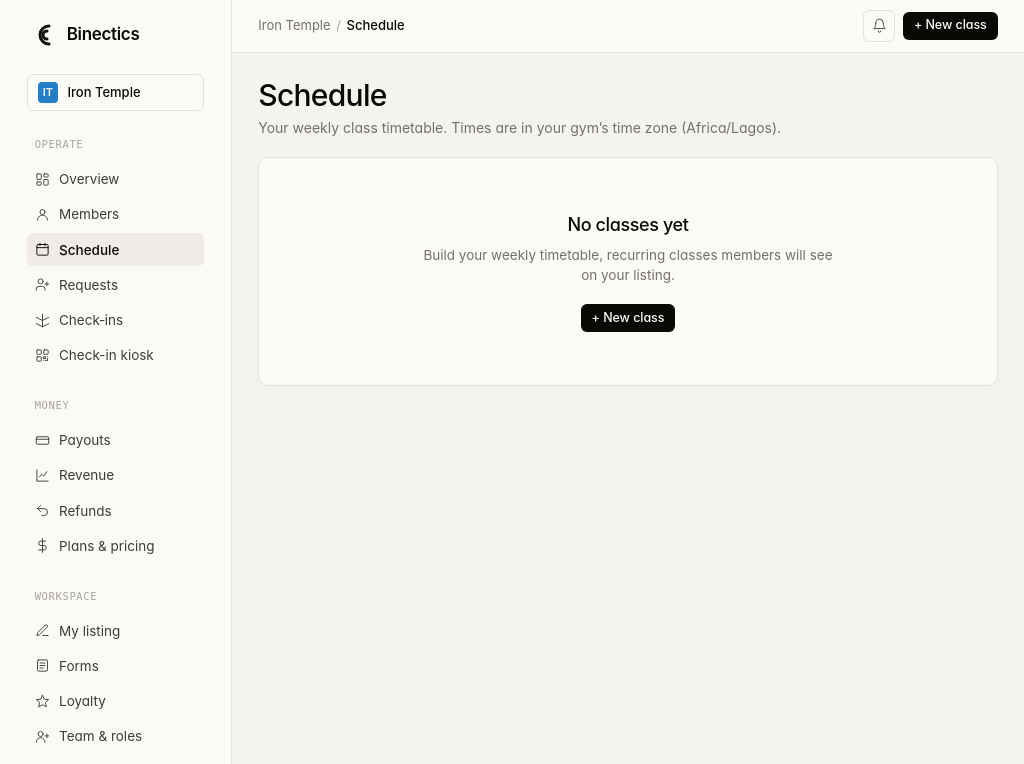
Test: Schedule on a plan without classes › opens the form as before when the plan has classes
Step 1. Click the 1st button "+ New class" → [950, 26], box [903,12,998,40]
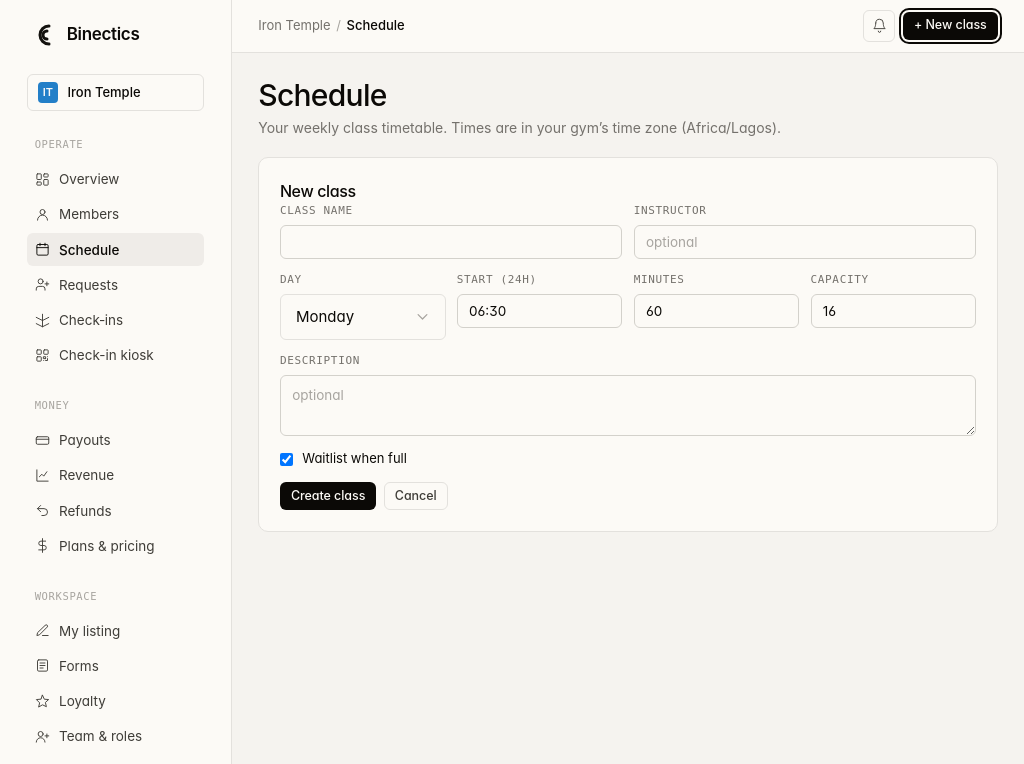
Check: the button "Create class" is shown, box [280,482,376,510]
